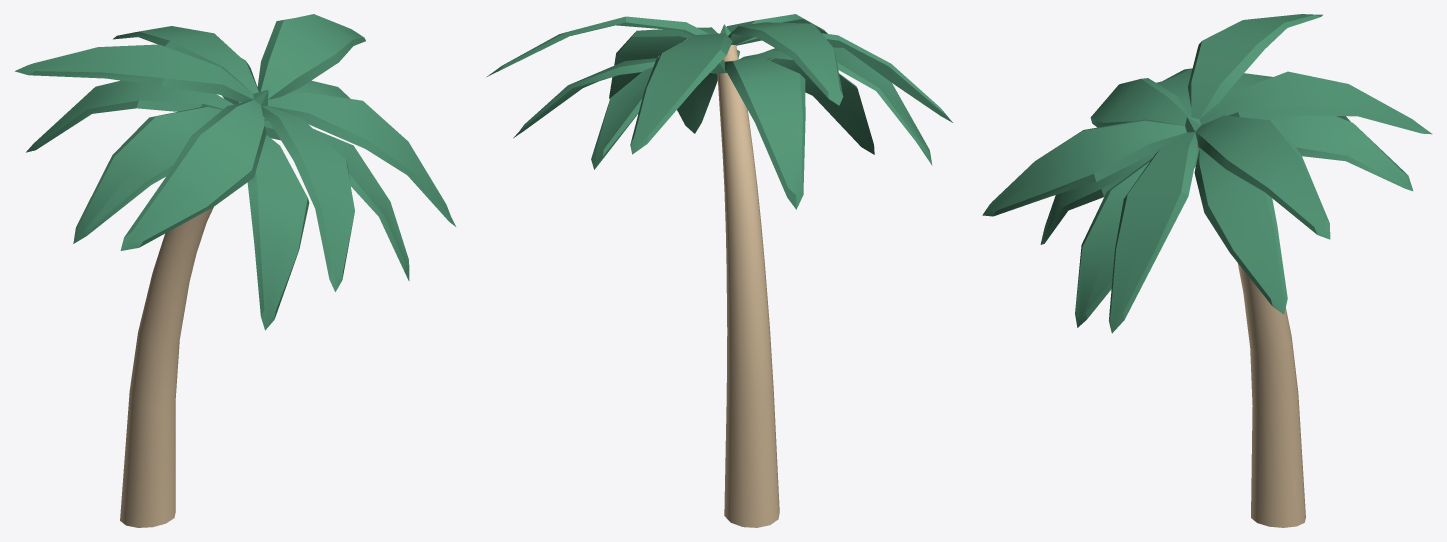
File: inside_Tree.fbx
3 renders of one model, left to right at view 1: azimuth 30°, elevation 25°; view 2: azimuth 150°, elevation 25°; view 3: azimuth 270°, elevation 25°, orthographic.
Visible parts, largest first — view 1: Cube.001; view 2: Cube.001; view 3: Cube.001.
Part boxes in pixels (box(x1,y1,x2,y2)): Cube.001: box(15, 14, 455, 527); Cube.001: box(487, 14, 952, 527); Cube.001: box(982, 14, 1432, 527).
Bounding box in the file's own units: 180 × 223 × 191.
